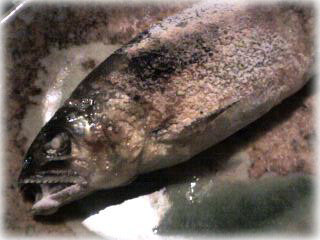fish: (15, 1, 319, 227)
